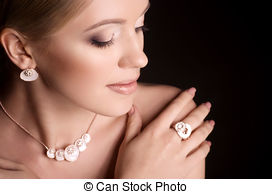face: (1, 1, 156, 124)
